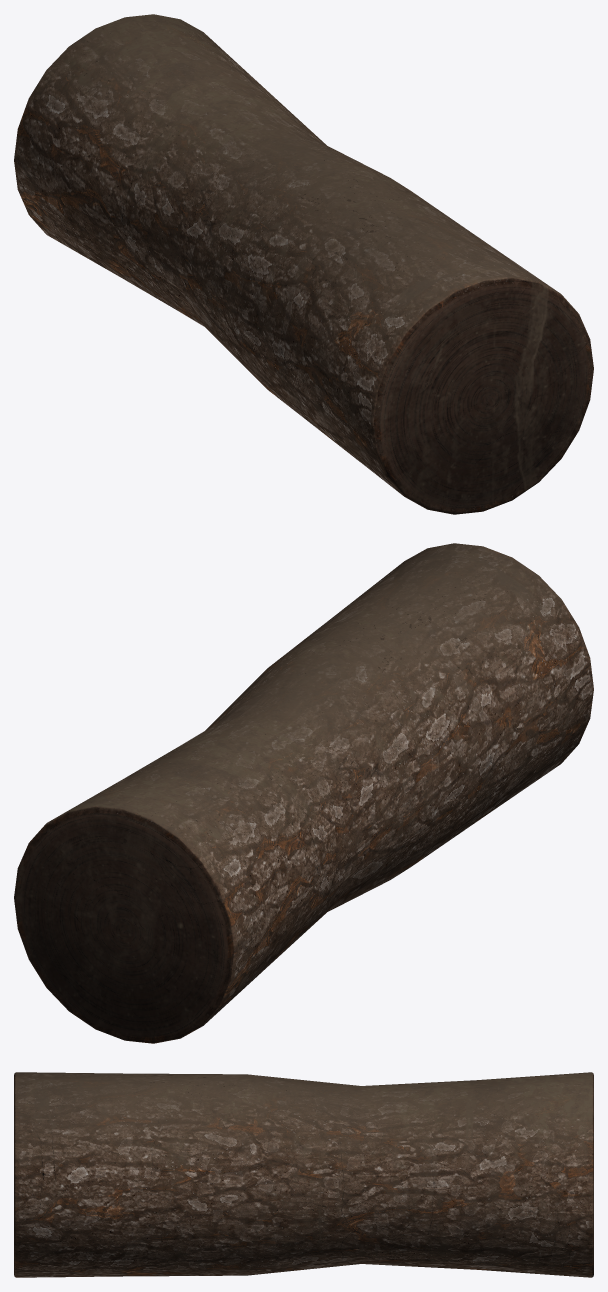
Rendered from SM_FireWood_c.fbx.
3 views of the same model, one above another, from view 1: azimuth 30°, elevation 25°; view 2: azimuth 150°, elevation 25°; view 3: azimuth 270°, elevation 25° (orthographic). The views are drawn at different scales.
Visible parts, largest first — view 1: SM_FireWood_c; view 2: SM_FireWood_c; view 3: SM_FireWood_c.
Boxes of the visible parts, x1,y1,x2,y2 form: SM_FireWood_c: (14, 14, 593, 514); SM_FireWood_c: (14, 543, 593, 1043); SM_FireWood_c: (14, 1072, 593, 1277).
Bounding box in the file's own units: 27.41 × 77.07 × 27.41.
Materials: 1 (1 with a texture image).
